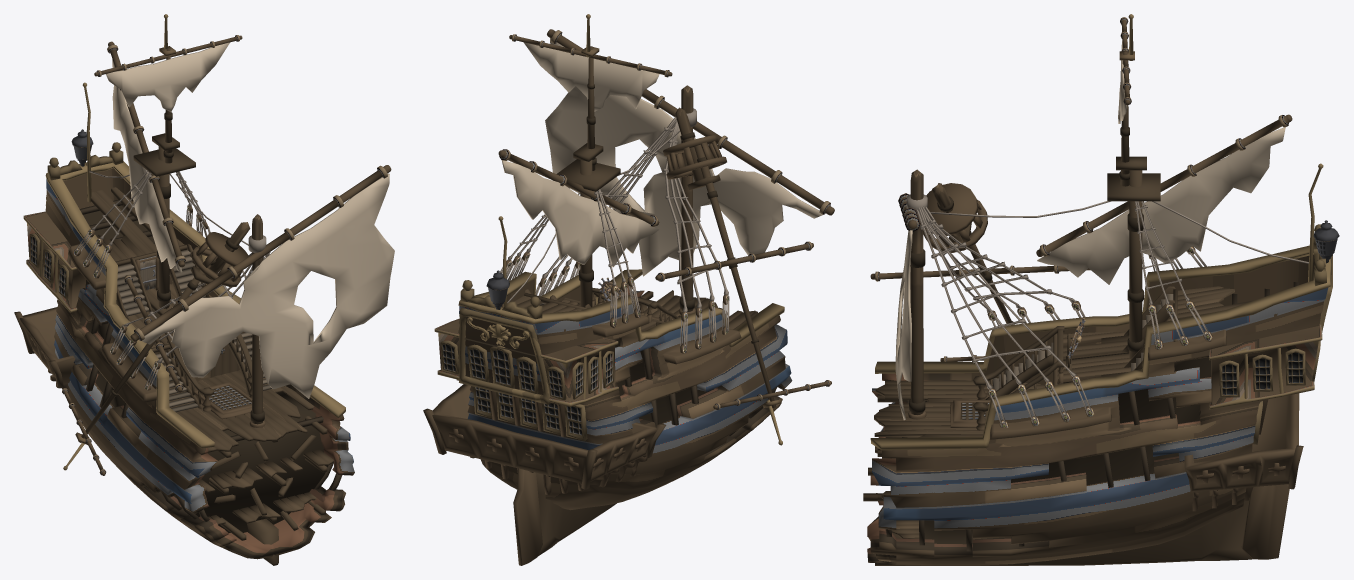
Rendered from SM_Prop_Shipwreck_02.glb.
The picture shows the model from 3 angles, left to right: view 1: azimuth 30°, elevation 25°; view 2: azimuth 150°, elevation 25°; view 3: azimuth 270°, elevation 25°; orthographic projection. The views are drawn at different scales.
Parts seen in each view (by area): view 1: SM_Prop_Shipwreck_02_part00, SM_Prop_Shipwreck_02_part01; view 2: SM_Prop_Shipwreck_02_part00, SM_Prop_Shipwreck_02_part01; view 3: SM_Prop_Shipwreck_02_part00, SM_Prop_Shipwreck_02_part01.
Boxes of the visible parts, bbox=[...] form: SM_Prop_Shipwreck_02_part00: bbox=[14, 14, 391, 565]; SM_Prop_Shipwreck_02_part01: bbox=[106, 42, 394, 398]; SM_Prop_Shipwreck_02_part00: bbox=[423, 14, 834, 565]; SM_Prop_Shipwreck_02_part01: bbox=[501, 38, 823, 276]; SM_Prop_Shipwreck_02_part00: bbox=[863, 14, 1339, 565]; SM_Prop_Shipwreck_02_part01: bbox=[895, 41, 1285, 420].
Bounding box in the file's own units: 14.59 × 23.52 × 18.43.
1 material, 1 textured.
